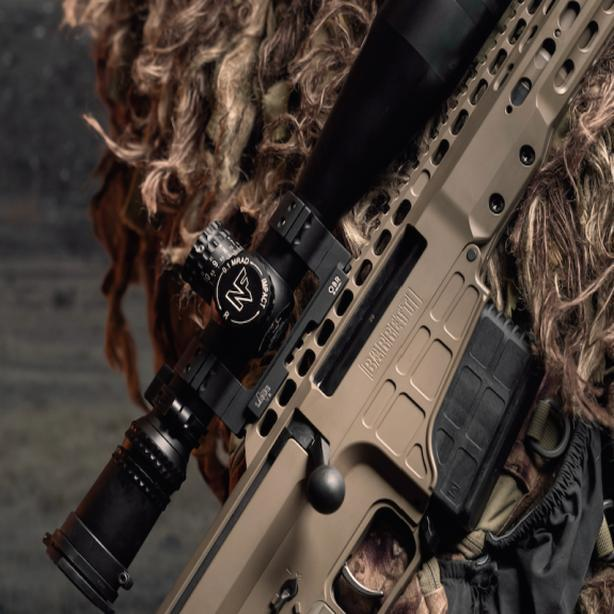Firearm: (45, 0, 614, 614)
